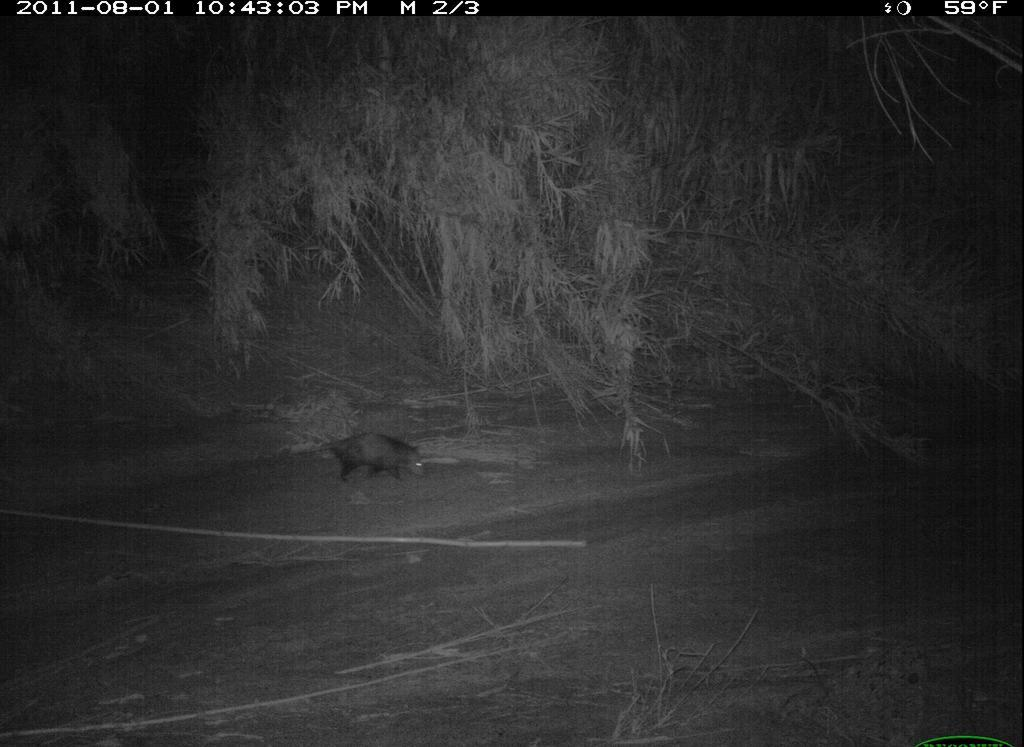opossum: (297, 423, 441, 489)
